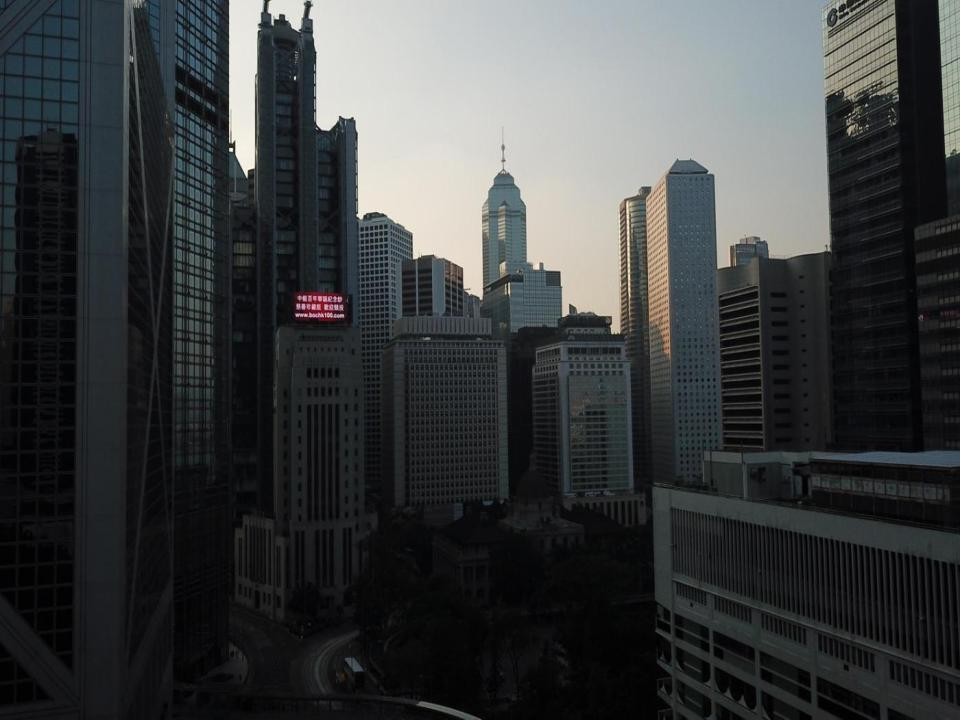bus: (344, 657, 366, 688)
